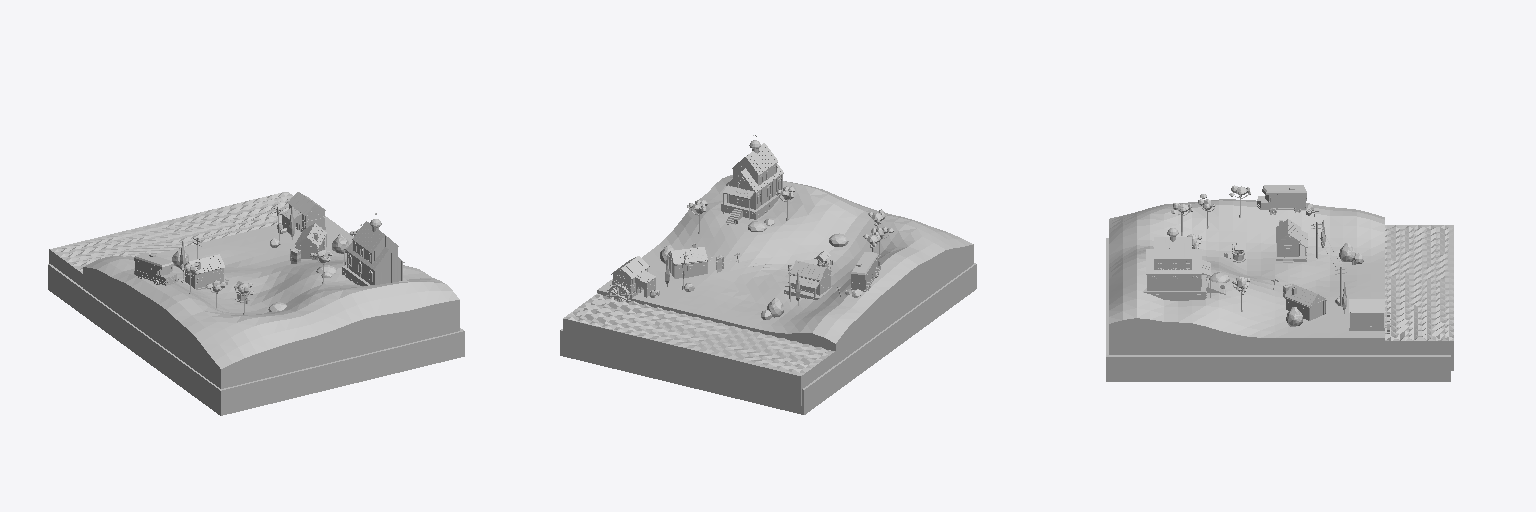
File: VillageDemo.obj
The picture shows the model from 3 angles: view 1: azimuth 30°, elevation 25°; view 2: azimuth 150°, elevation 25°; view 3: azimuth 270°, elevation 25°; orthographic projection.
Parts seen in each view (by area): view 1: Village_Demo.627, Village_Demo.628, Village_Demo.001, Village_Demo.591, Village_Demo.249; view 2: Village_Demo.627, Village_Demo.001, Village_Demo.628, Village_Demo.591, Village_Demo.249; view 3: Village_Demo.627, Village_Demo.628, Village_Demo.001, Village_Demo.591, Village_Demo.249.
Part boxes in pixels (bbox=[...]): Village_Demo.627: bbox=[83, 216, 459, 388]; Village_Demo.628: bbox=[48, 264, 464, 415]; Village_Demo.001: bbox=[49, 192, 292, 286]; Village_Demo.591: bbox=[134, 252, 177, 285]; Village_Demo.249: bbox=[342, 247, 408, 285]; Village_Demo.627: bbox=[597, 175, 973, 364]; Village_Demo.001: bbox=[563, 293, 835, 405]; Village_Demo.628: bbox=[560, 263, 976, 414]; Village_Demo.591: bbox=[851, 252, 880, 291]; Village_Demo.249: bbox=[721, 169, 783, 219]; Village_Demo.627: bbox=[1109, 199, 1384, 354]; Village_Demo.628: bbox=[1106, 238, 1450, 381]; Village_Demo.001: bbox=[1385, 225, 1453, 370]; Village_Demo.591: bbox=[1257, 185, 1306, 209]; Village_Demo.249: bbox=[1143, 270, 1205, 300].
Bounding box in the file's own units: 44.25 × 23.13 × 54.48.